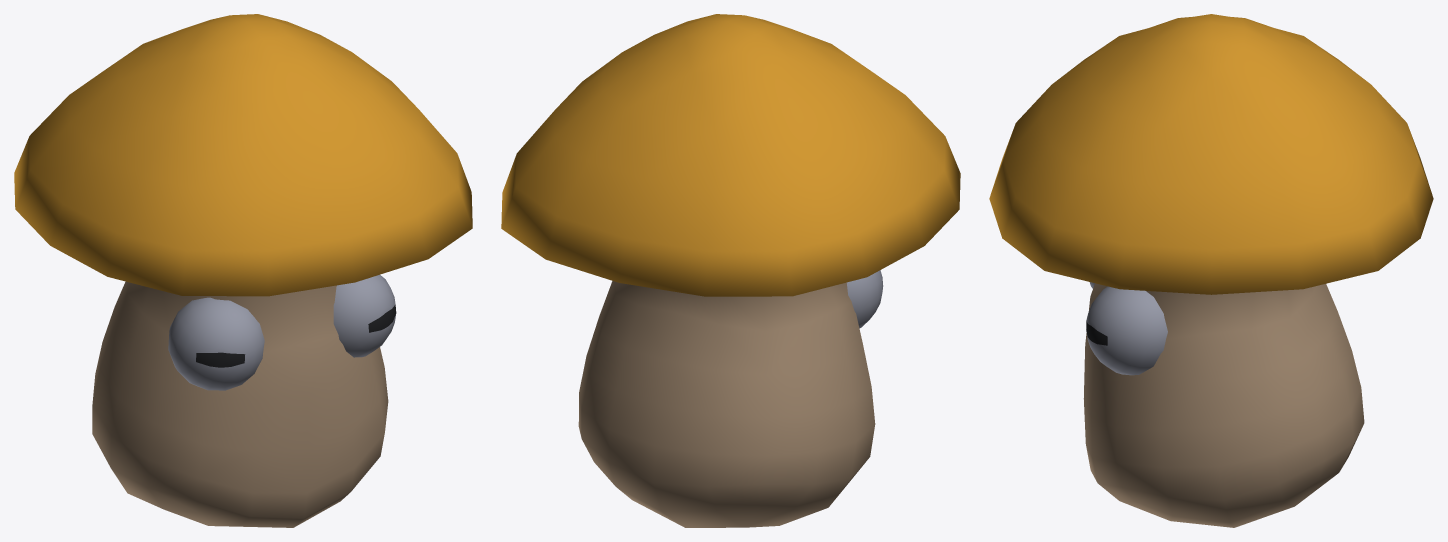
Rendered from Mushnub.obj.
3 views of the same model, side by side, from view 1: azimuth 30°, elevation 25°; view 2: azimuth 150°, elevation 25°; view 3: azimuth 270°, elevation 25° (orthographic).
Parts seen in each view (by area): view 1: Mushnub_Blob_Cube.034; view 2: Mushnub_Blob_Cube.034; view 3: Mushnub_Blob_Cube.034.
Boxes of the visible parts, box(x1,y1,x2,y2) form: Mushnub_Blob_Cube.034: box(14, 14, 472, 527); Mushnub_Blob_Cube.034: box(501, 14, 960, 527); Mushnub_Blob_Cube.034: box(989, 14, 1433, 527).
Size of the model in its own units: 2.75 by 3.35 by 2.75.
